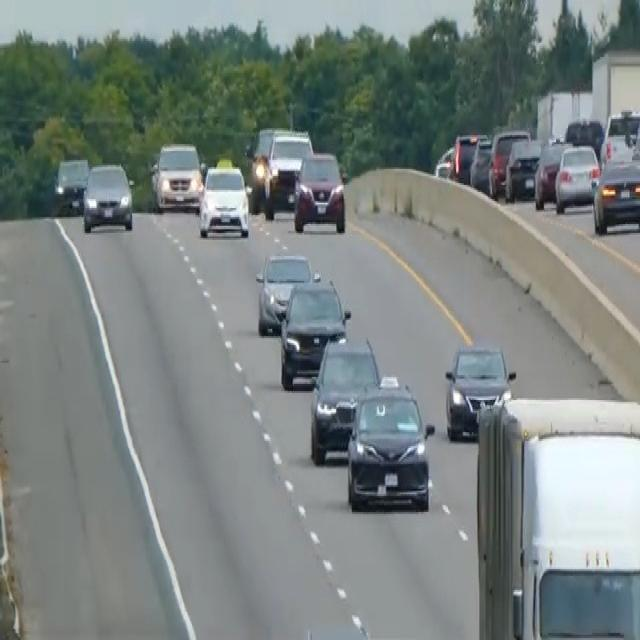car: (309, 332, 380, 464), (278, 276, 351, 390), (444, 341, 516, 441), (255, 249, 317, 336), (292, 149, 346, 233), (263, 128, 313, 215), (197, 158, 250, 238), (592, 151, 639, 235), (81, 160, 134, 233), (151, 140, 203, 212), (246, 123, 287, 208), (554, 142, 600, 214), (488, 126, 530, 198), (533, 135, 572, 210), (503, 137, 543, 203), (600, 108, 639, 166), (53, 155, 89, 213), (451, 130, 483, 183), (564, 116, 604, 156), (469, 135, 493, 192), (434, 142, 455, 180)
lorry: (474, 391, 639, 637)
minivan: (344, 373, 435, 514)
